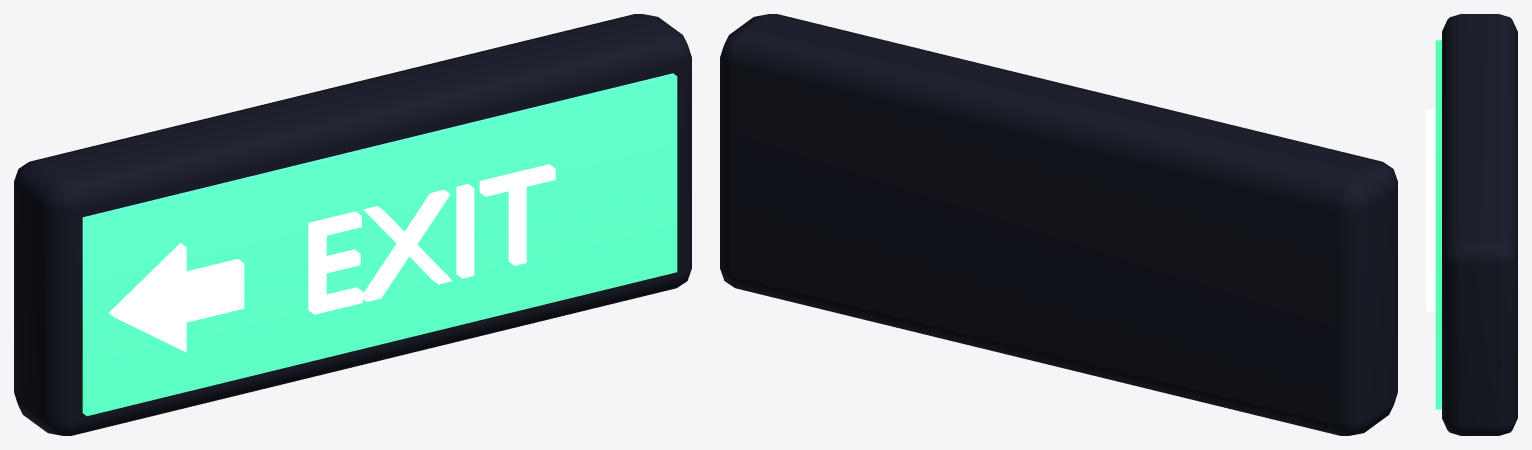
File: aqua_exit_sign.glb
The picture shows the model from 3 angles, left to right: view 1: azimuth 30°, elevation 25°; view 2: azimuth 150°, elevation 25°; view 3: azimuth 270°, elevation 25°; orthographic projection. The views are drawn at different scales.
Visible parts, largest first — view 1: ExitSign; view 2: ExitSign; view 3: ExitSign.
Boxes of the visible parts, x1,y1,x2,y2 form: ExitSign: [14, 14, 691, 435]; ExitSign: [720, 14, 1397, 435]; ExitSign: [1426, 14, 1517, 435].
Size of the model in its own units: 0.9 by 0.34 by 0.145.
